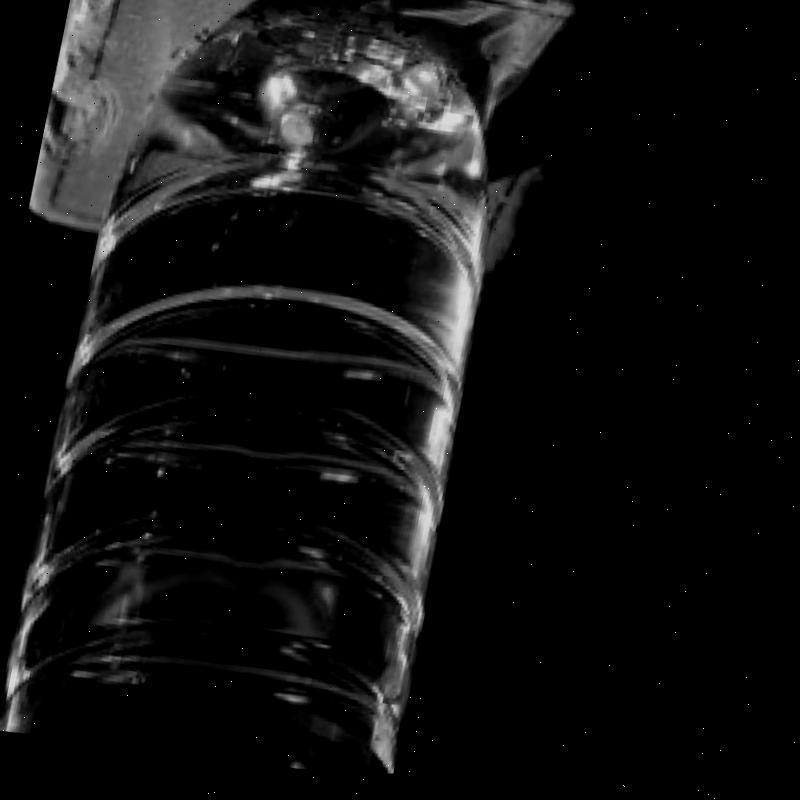botella: (0, 0, 543, 800)
